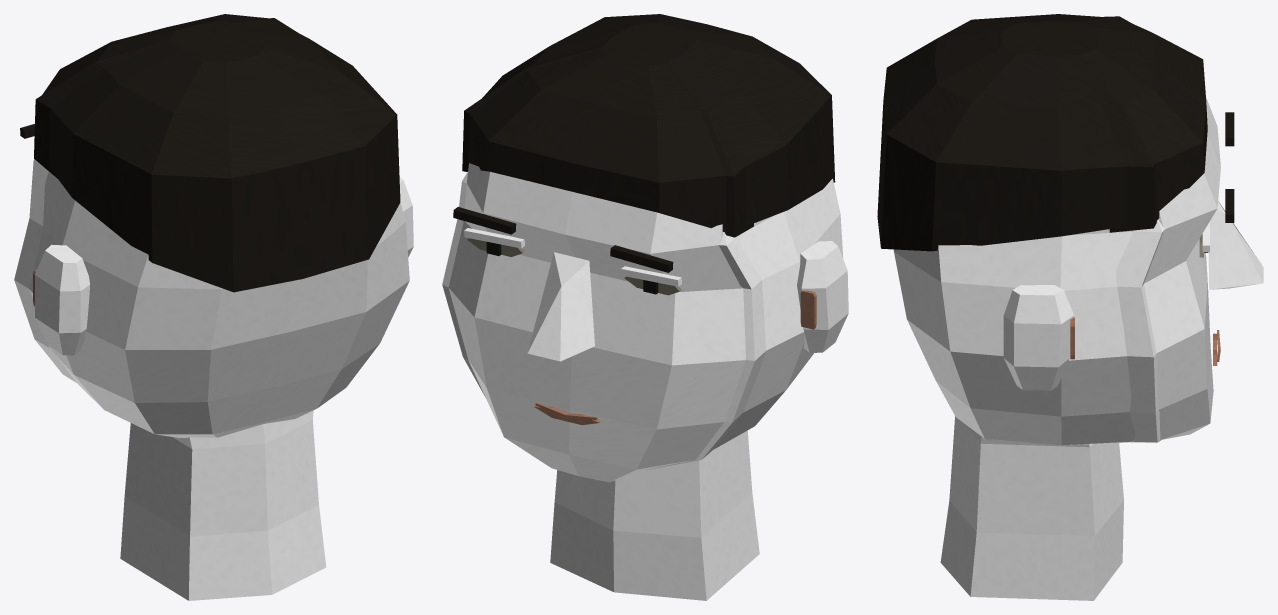
3 renders of one model, left to right at view 1: azimuth 30°, elevation 25°; view 2: azimuth 150°, elevation 25°; view 3: azimuth 270°, elevation 25°, orthographic. The views are drawn at different scales.
Visible parts, largest first — view 1: face_05_head_LOD0_RAID_skin.001, face_05_head_LOD0_RAID_hair1.001, face_05_head_LOD1_RAID_hair1.001, face_05_head_LOD1_RAID_skin.001; view 2: face_05_head_LOD0_RAID_skin.001, face_05_head_LOD0_RAID_hair1.001, face_05_head_LOD1_RAID_skin.001, face_05_head_LOD1_RAID_hair1.001, face_05_head_LOD0_RAID_lip.001, face_05_head_LOD0_RAID_eye.001; view 3: face_05_head_LOD0_RAID_skin.001, face_05_head_LOD0_RAID_hair1.001, face_05_head_LOD1_RAID_skin.001, face_05_head_LOD1_RAID_hair1.001.
Part boxes in pixels (bbox=[...]): face_05_head_LOD0_RAID_skin.001: bbox=[29, 172, 413, 600]; face_05_head_LOD0_RAID_hair1.001: bbox=[20, 14, 400, 292]; face_05_head_LOD1_RAID_hair1.001: bbox=[34, 18, 297, 178]; face_05_head_LOD1_RAID_skin.001: bbox=[14, 159, 76, 382]; face_05_head_LOD0_RAID_skin.001: bbox=[448, 163, 848, 600]; face_05_head_LOD0_RAID_hair1.001: bbox=[453, 14, 835, 272]; face_05_head_LOD1_RAID_skin.001: bbox=[442, 172, 765, 469]; face_05_head_LOD1_RAID_hair1.001: bbox=[462, 25, 753, 237]; face_05_head_LOD0_RAID_lip.001: bbox=[534, 290, 816, 425]; face_05_head_LOD0_RAID_eye.001: bbox=[467, 238, 681, 295]; face_05_head_LOD0_RAID_skin.001: bbox=[893, 97, 1263, 600]; face_05_head_LOD0_RAID_hair1.001: bbox=[877, 14, 1234, 251]; face_05_head_LOD1_RAID_skin.001: bbox=[1116, 220, 1164, 442]; face_05_head_LOD1_RAID_hair1.001: bbox=[1003, 16, 1156, 232].
Size of the model in its own units: 0.2884 by 0.394 by 0.263.
5 materials, 5 textured.
